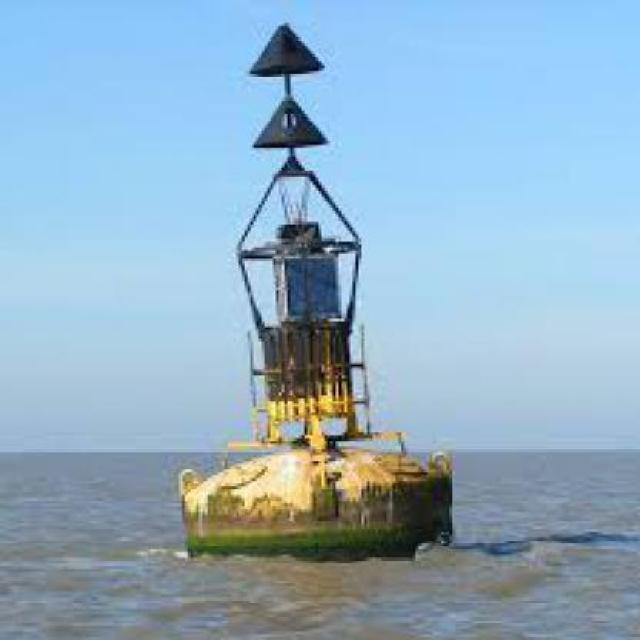buoy: (166, 21, 463, 573)
